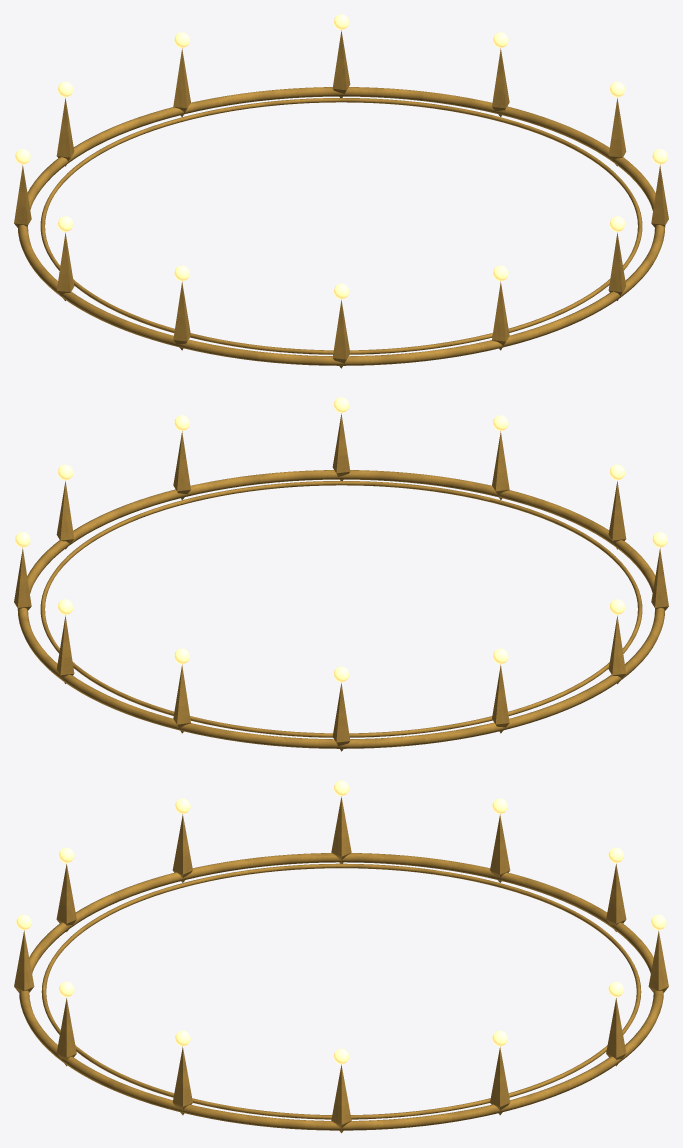
Rendered from lb_crown.glb.
The picture shows the model from 3 angles, top to bottom: view 1: azimuth 30°, elevation 25°; view 2: azimuth 150°, elevation 25°; view 3: azimuth 270°, elevation 25°; orthographic projection.
Parts seen in each view (by area): view 1: lb_crown; view 2: lb_crown; view 3: lb_crown.
Boxes of the visible parts, x1,y1,x2,y2 form: lb_crown: (14,14,668,368); lb_crown: (14,397,668,751); lb_crown: (14,780,668,1133).
Bounding box in the file's own units: 11.56 × 1.64 × 11.56.
Materials: 2 (1 with a texture image).
